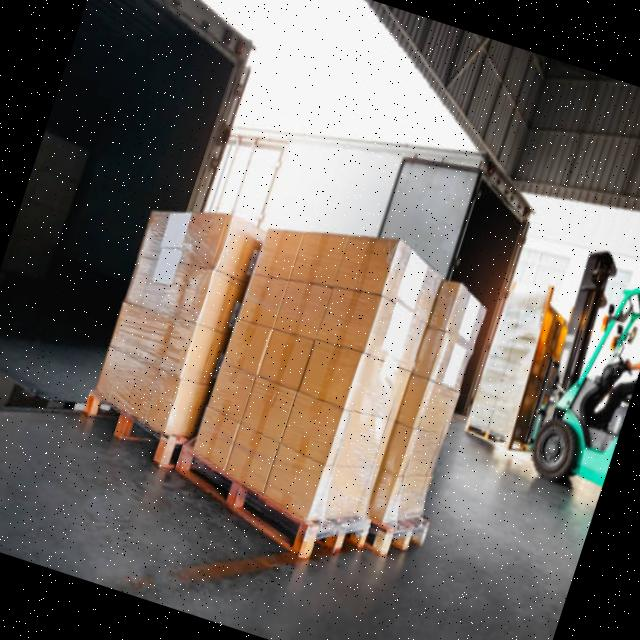Wooden-Pallets: (167, 433, 376, 562), (69, 384, 176, 481), (366, 512, 435, 561)
